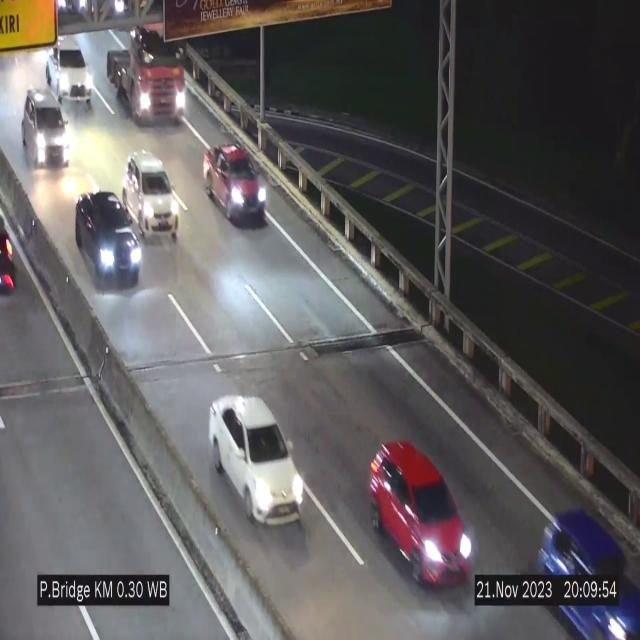Car: (527, 500, 640, 640), (368, 440, 476, 586), (209, 395, 304, 522), (76, 192, 142, 286), (18, 87, 74, 175), (203, 145, 266, 223), (124, 152, 177, 239), (47, 42, 97, 114)
Truck: (108, 25, 186, 123)
